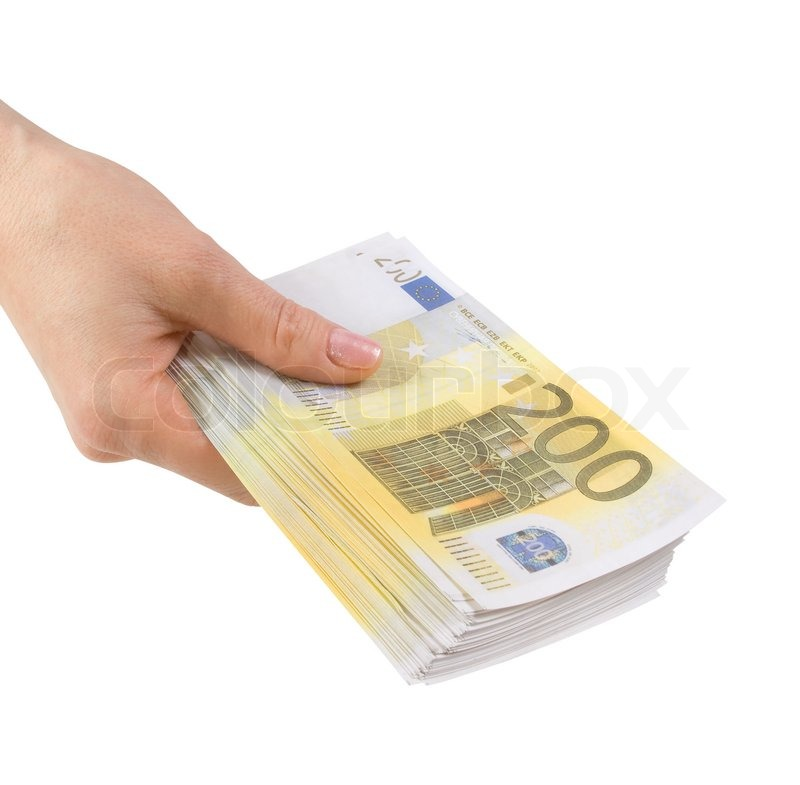billete: (164, 229, 733, 687)
